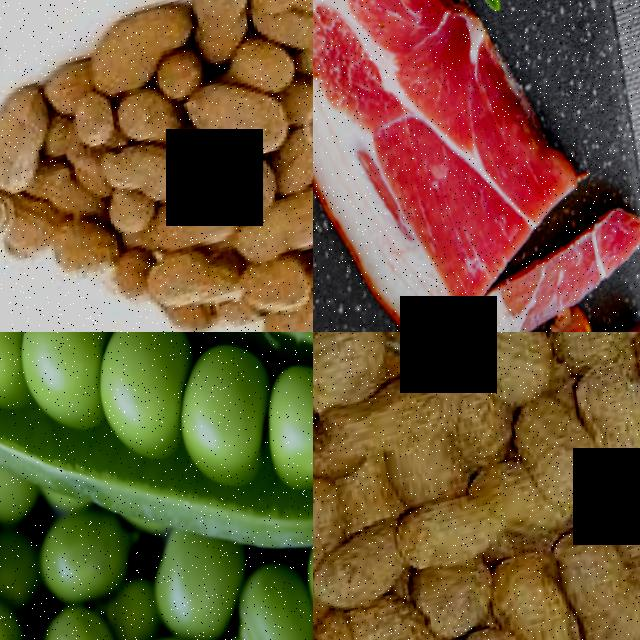peanuts: (388, 467, 550, 590), (313, 373, 450, 494), (580, 367, 640, 535), (555, 525, 640, 640), (89, 7, 189, 102), (207, 80, 293, 175), (105, 138, 196, 222), (148, 254, 240, 330), (0, 86, 54, 202), (236, 195, 313, 276), (46, 217, 121, 299), (147, 201, 233, 268), (185, 0, 259, 70), (114, 88, 183, 163), (240, 264, 313, 332), (250, 0, 313, 37), (256, 304, 313, 332)
peas: (90, 332, 313, 540), (0, 332, 111, 482)
pork belly: (326, 62, 596, 332), (313, 0, 479, 211)
